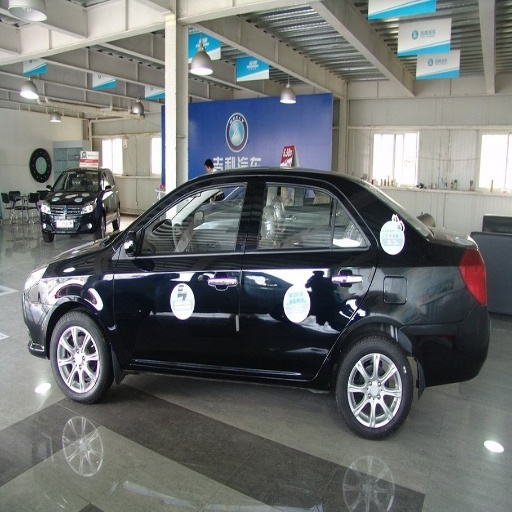back_bumper: (415, 332, 477, 382)
back_glass: (265, 19, 310, 54)
back_left_door: (241, 177, 372, 376)
trunk: (217, 76, 307, 132)
